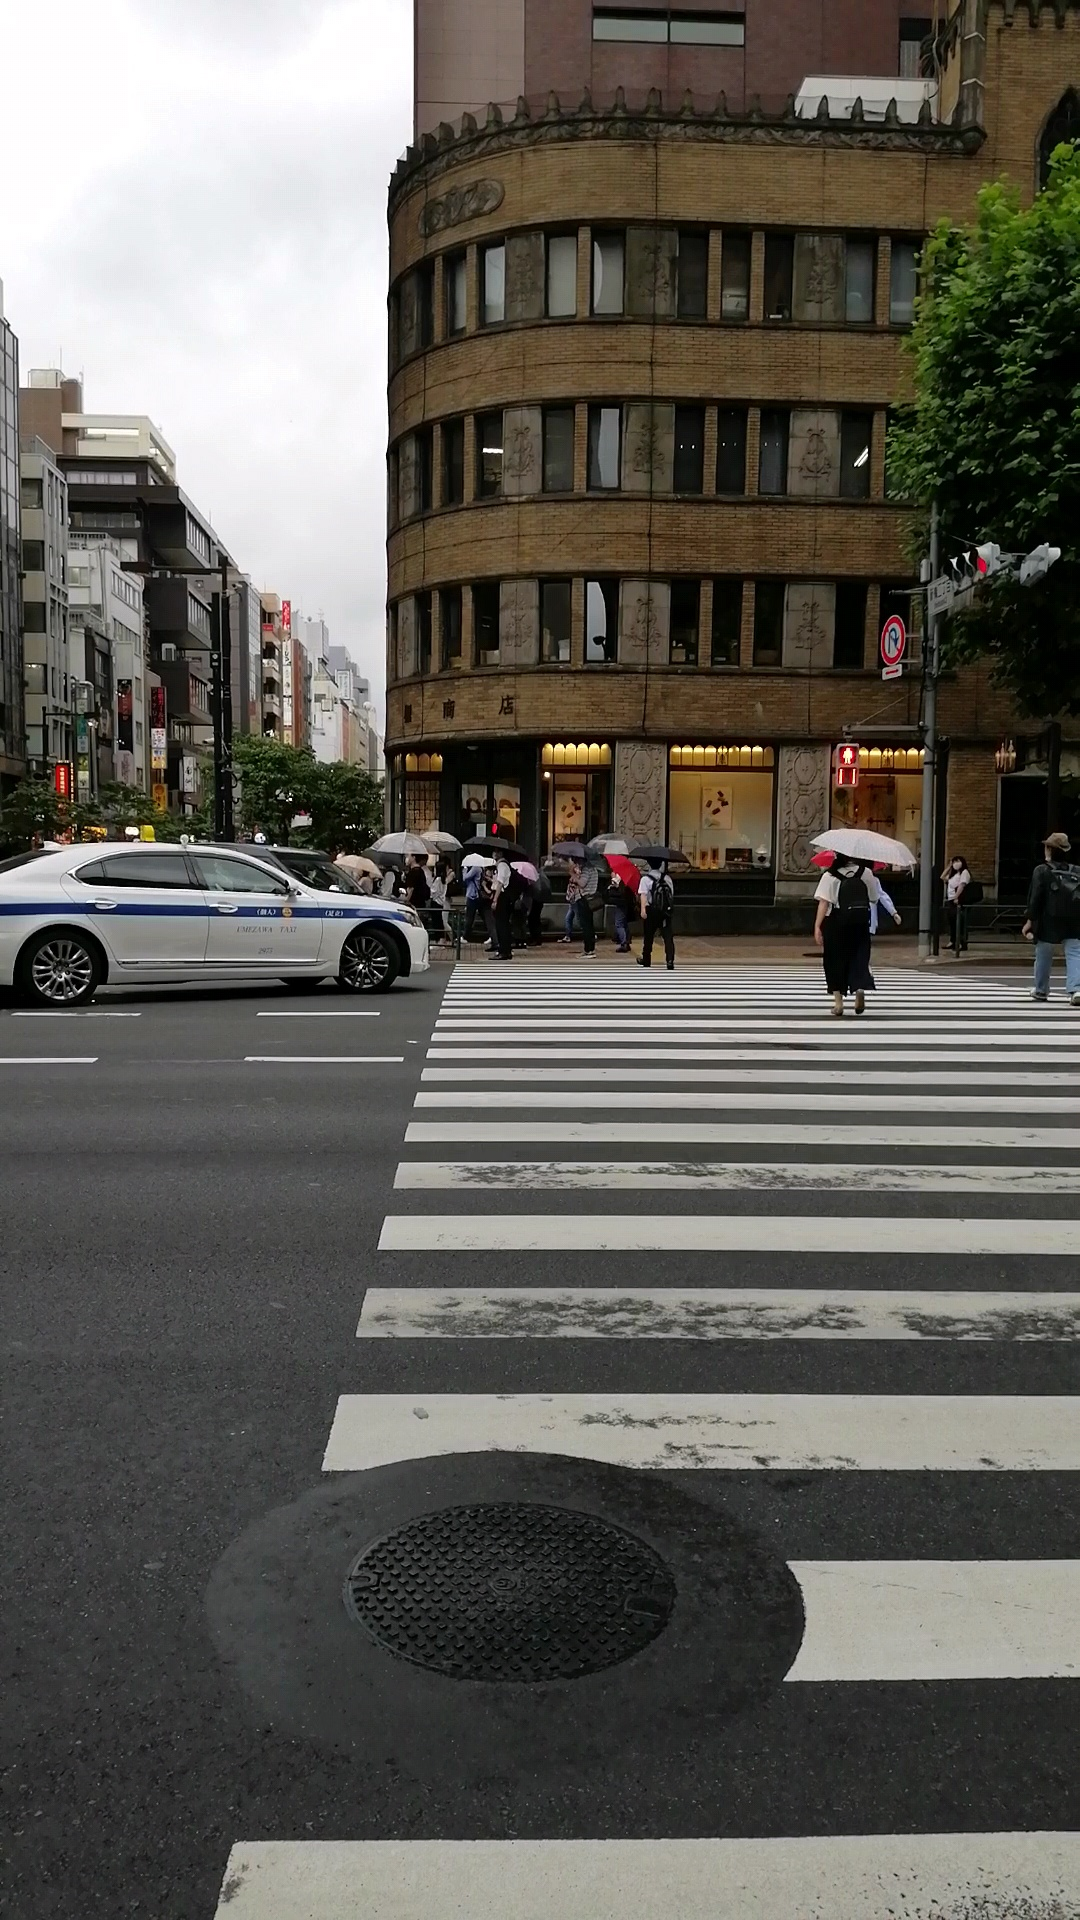red: (833, 742, 857, 789)
